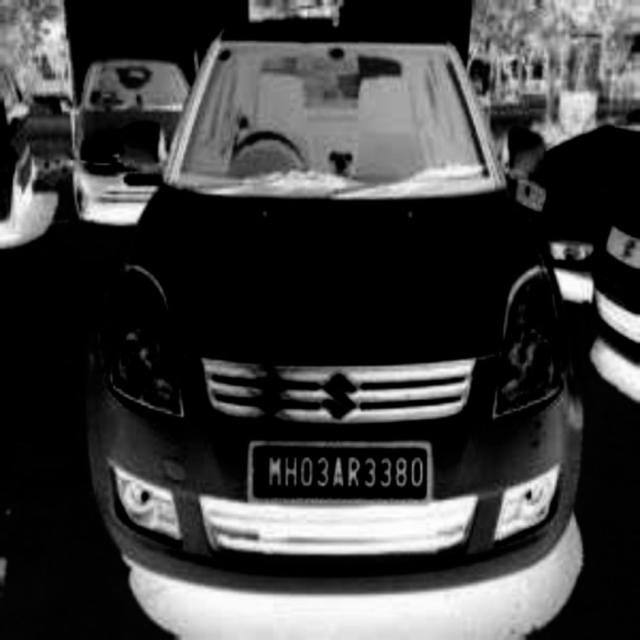Non_registered: (252, 444, 429, 501)
